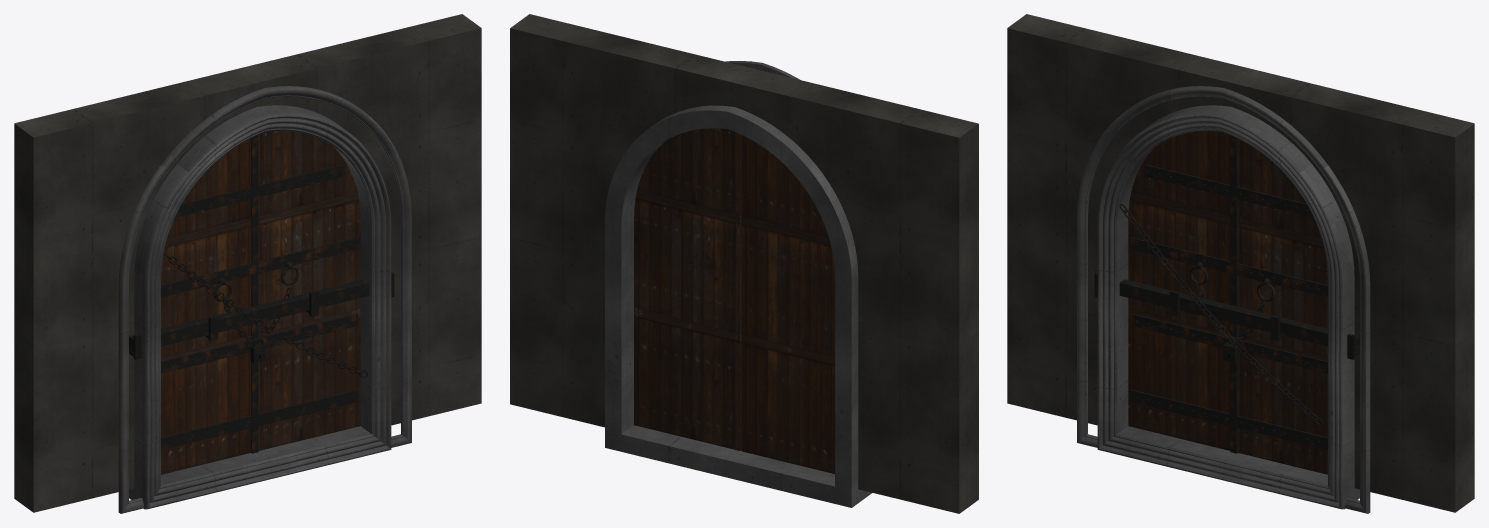
Rendered from Door_Locked_Massive.gltf.
The picture shows the model from 3 angles, left to right: view 1: azimuth 30°, elevation 25°; view 2: azimuth 150°, elevation 25°; view 3: azimuth 330°, elevation 25°; orthographic projection.
Visible parts, largest first — view 1: Door_Locked_Massive_Wall, Door_Locked_Massive_Leaves, Door_Locked_Massive_Frame, Door_Locked_Massive_Iron; view 2: Door_Locked_Massive_Wall, Door_Locked_Massive_Leaves, Door_Locked_Massive_Frame; view 3: Door_Locked_Massive_Wall, Door_Locked_Massive_Leaves, Door_Locked_Massive_Frame, Door_Locked_Massive_Iron.
Part boxes in pixels (bbox=[...]): Door_Locked_Massive_Wall: bbox=[14, 14, 481, 512]; Door_Locked_Massive_Leaves: bbox=[161, 131, 360, 474]; Door_Locked_Massive_Frame: bbox=[118, 86, 411, 513]; Door_Locked_Massive_Iron: bbox=[129, 135, 394, 453]; Door_Locked_Massive_Wall: bbox=[510, 14, 978, 513]; Door_Locked_Massive_Leaves: bbox=[634, 128, 834, 473]; Door_Locked_Massive_Frame: bbox=[605, 61, 872, 507]; Door_Locked_Massive_Wall: bbox=[1007, 14, 1474, 512]; Door_Locked_Massive_Leaves: bbox=[1128, 131, 1327, 474]; Door_Locked_Massive_Frame: bbox=[1077, 86, 1370, 513]; Door_Locked_Massive_Iron: bbox=[1094, 135, 1359, 453].
Size of what is drawn, in the model's own units: 4 by 3.32 by 0.5891.
Materials: 5 (4 with a texture image).
